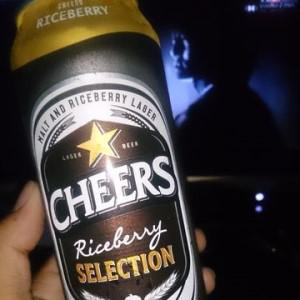beer: (14, 1, 205, 300)
